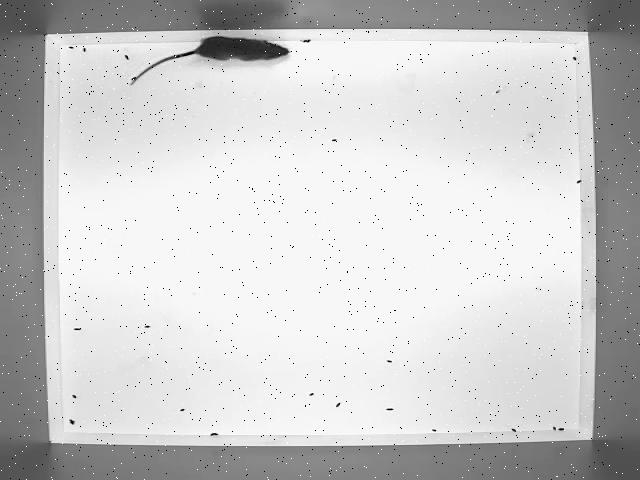Tikus: (129, 34, 291, 87)
